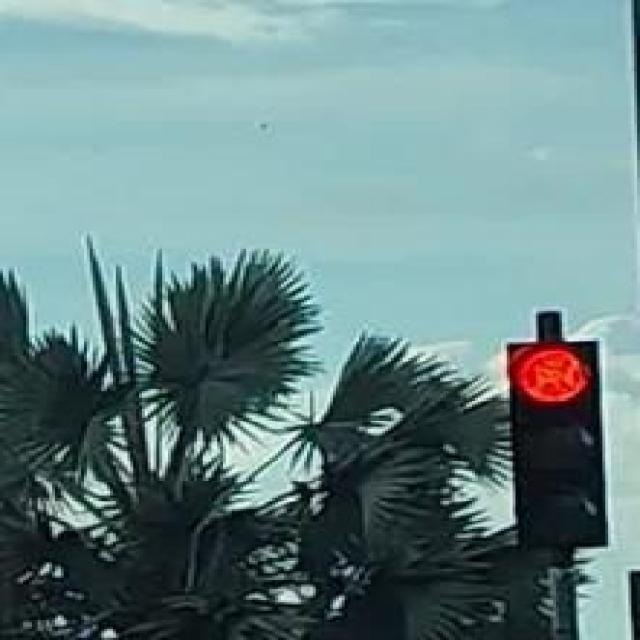red_light: (500, 338, 602, 542)
